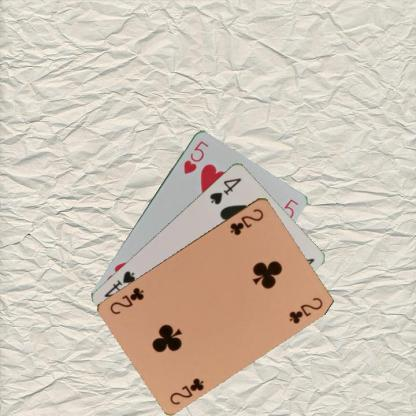2c: (167, 375, 206, 406), (227, 206, 265, 237)
4s: (207, 174, 243, 206)
5h: (181, 138, 210, 175)
